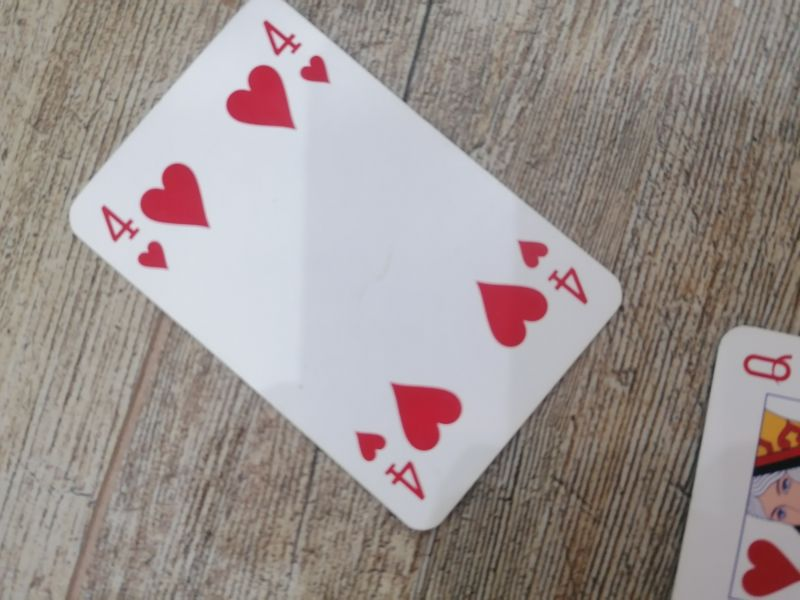4h: (346, 424, 431, 509), (257, 14, 337, 91), (93, 199, 175, 274), (511, 236, 590, 308)
